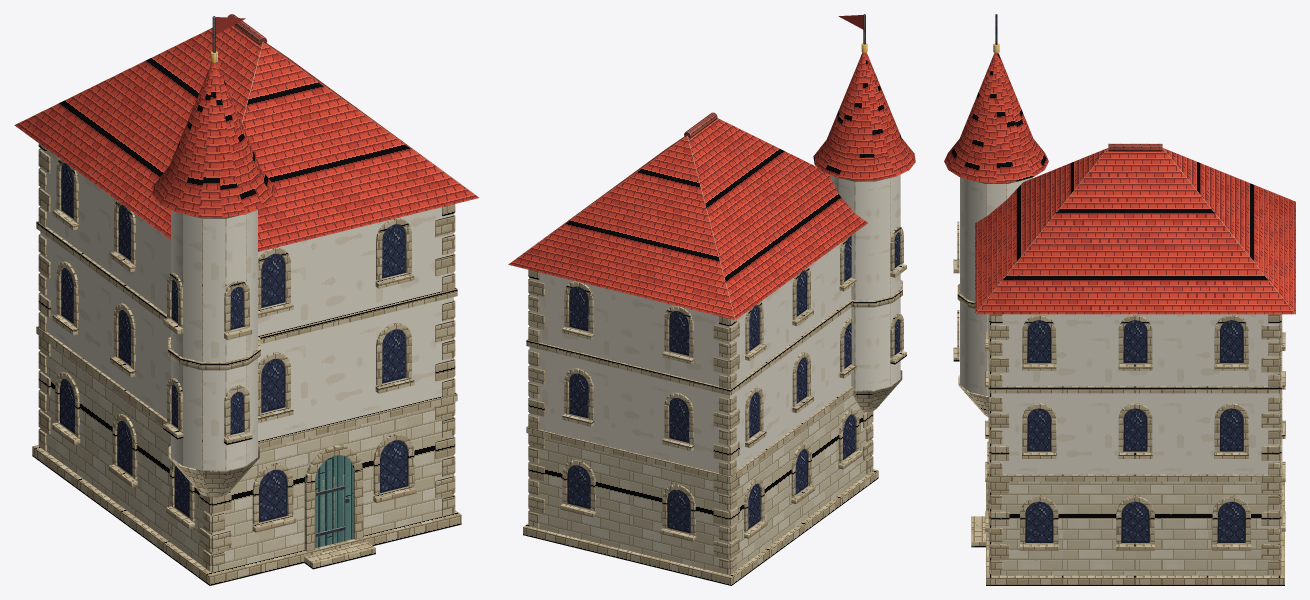
Rendered from medieval_house_5.glb.
The picture shows the model from 3 angles, left to right: view 1: azimuth 30°, elevation 25°; view 2: azimuth 150°, elevation 25°; view 3: azimuth 270°, elevation 25°; orthographic projection. The views are drawn at different scales.
Parts seen in each view (by area): view 1: medieval_house_6; view 2: medieval_house_6; view 3: medieval_house_6.
Part boxes in pixels (x1=…): medieval_house_6: x1=14, y1=14, x2=479, y2=585; medieval_house_6: x1=508, y1=14, x2=915, y2=585; medieval_house_6: x1=944, y1=14, x2=1295, y2=585.
Bounding box in the file's own units: 8.25 × 14.45 × 9.75.
11 materials, 11 textured.
